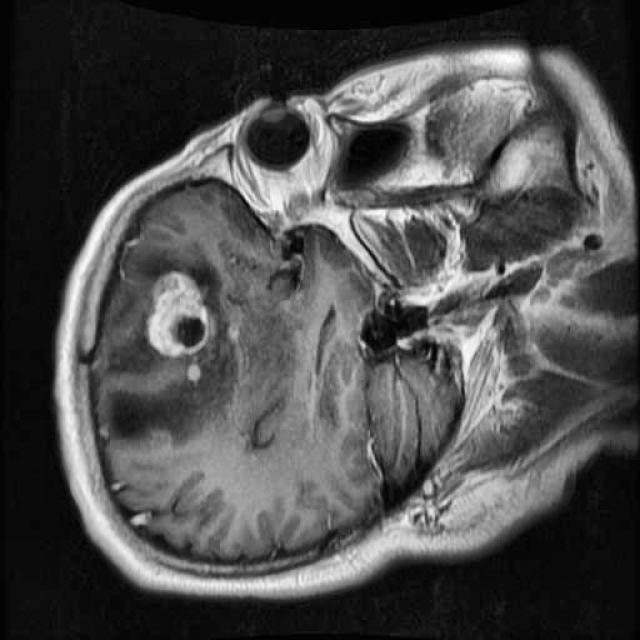Tumor: (124, 259, 237, 372)
